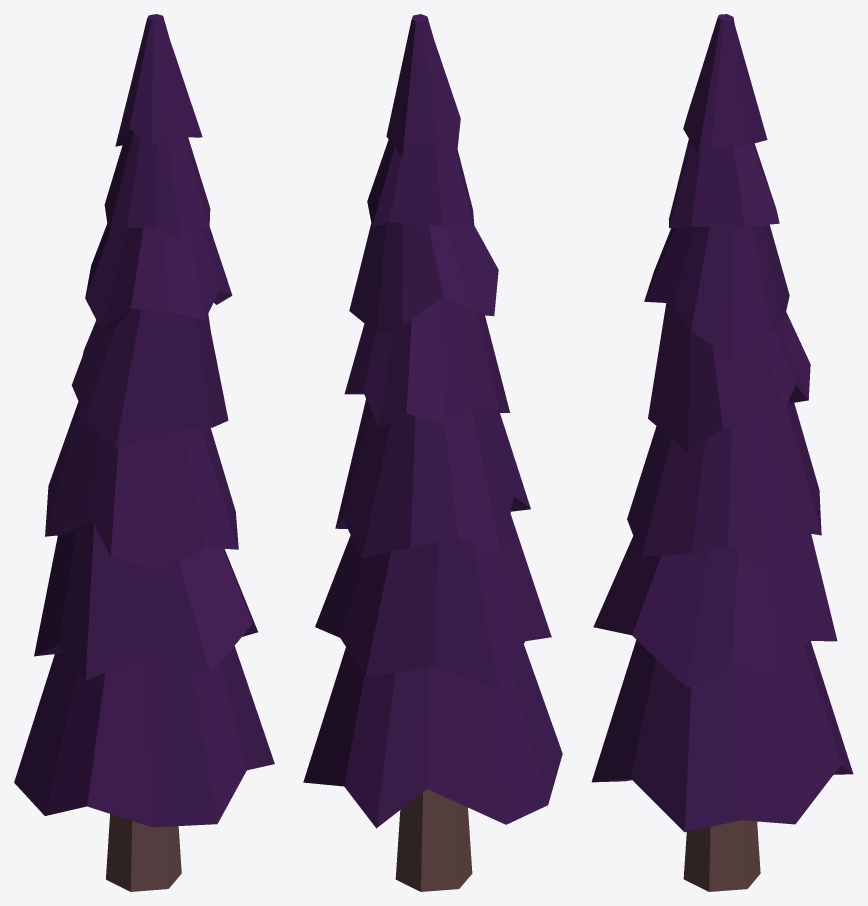
The model's file is pinetree4.fbx.
3 views of the same model, side by side, from view 1: azimuth 30°, elevation 25°; view 2: azimuth 150°, elevation 25°; view 3: azimuth 270°, elevation 25° (orthographic).
Visible parts, largest first — view 1: pinetree4; view 2: pinetree4; view 3: pinetree4.
Boxes of the visible parts, x1,y1,x2,y2 form: pinetree4: (14, 14, 274, 891); pinetree4: (303, 14, 562, 891); pinetree4: (591, 14, 853, 891).
Size of the model in its own units: 423 by 1578 by 433.
